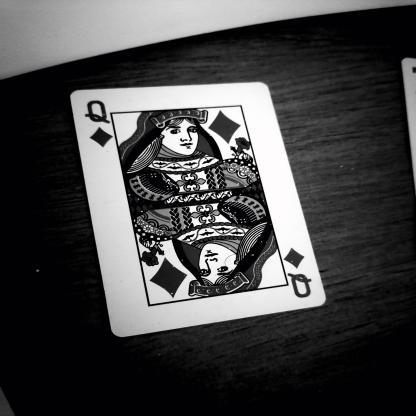QD: (76, 92, 124, 158), (280, 245, 324, 300)
